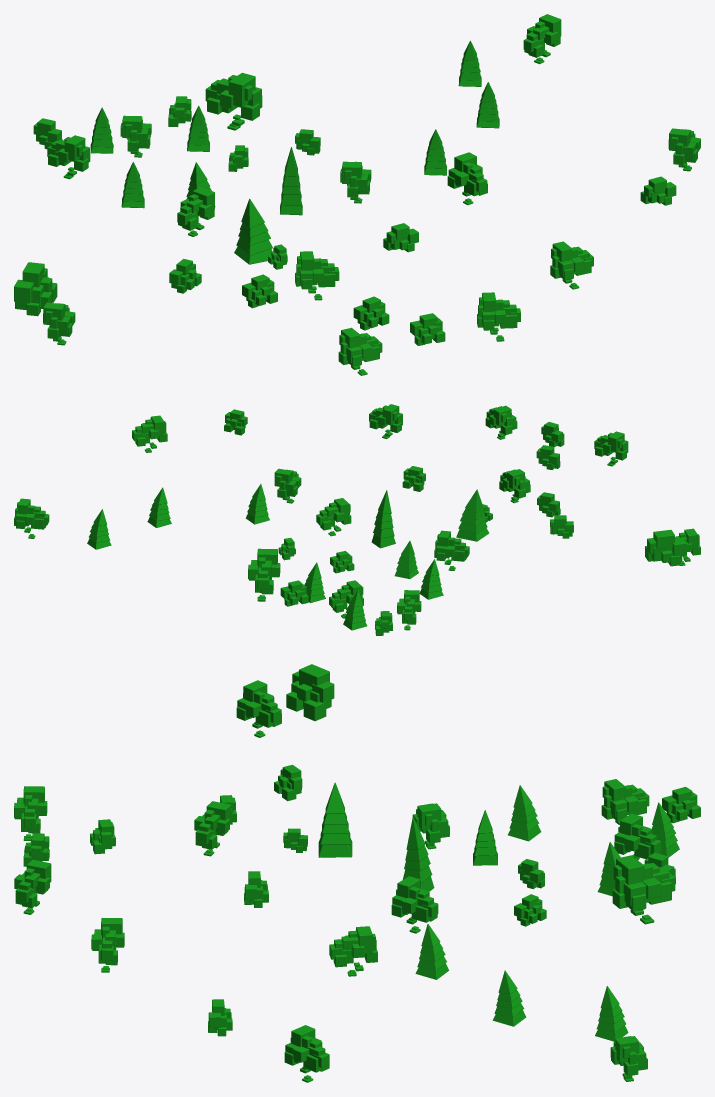
File: leaves.obj
3 renders of one model, top to bottom at view 1: azimuth 30°, elevation 25°; view 2: azimuth 150°, elevation 25°; view 3: azimuth 270°, elevation 25°, orthographic. The views are drawn at different scales.
Parts seen in each view (by area): view 1: Cube.012_Cube.021_None.004, Cube.010_Cube.010_None.013, Cube.006_Cube.042_None, Cube.012_Cube.021_None.007, Cube.012_Cube.021_None.008, Cube.012_Cube.021_None.010, Cube.012_Cube.021_None.009, Cube.012_Cube.021_None, Cube.012_Cube.021_None.003, Cube.012_Cube.021_None.005, Cube.012_Cube.021_None.006, Cube.006_Cube.042_None.002 (+18 smaller); view 2: Cube.012_Cube.021_None.004, Cube.010_Cube.010_None.013, Cube.006_Cube.042_None, Cube.012_Cube.021_None.006, Cube.012_Cube.021_None.005, Cube.006_Cube.042_None.002, Cube.012_Cube.021_None.001, Cube.012_Cube.021_None.012, Cube.012_Cube.021_None.009, Cube.012_Cube.021_None.010, Cube.012_Cube.021_None.008, Cube.012_Cube.021_None.007 (+19 smaller); view 3: Cube.012_Cube.021_None.004, Cube.010_Cube.010_None.013, Cube.006_Cube.042_None, Cube.012_Cube.021_None.001, Cube.012_Cube.021_None.012, Cube.012_Cube.021_None.011, Cube.012_Cube.021_None, Cube.012_Cube.021_None.003, Cube.012_Cube.021_None.002, Cube.012_Cube.021_None.008, Cube.012_Cube.021_None.007, Cube.012_Cube.021_None.010 (+18 smaller).
Part boxes in pixels (<box>): Cube.012_Cube.021_None.004: <box>205,72,262,130</box>; Cube.010_Cube.010_None.013: <box>14,262,57,316</box>; Cube.006_Cube.042_None: <box>234,198,272,264</box>; Cube.012_Cube.021_None.007: <box>295,251,339,300</box>; Cube.012_Cube.021_None.008: <box>477,292,520,341</box>; Cube.012_Cube.021_None.010: <box>550,241,593,289</box>; Cube.012_Cube.021_None.009: <box>338,327,382,375</box>; Cube.012_Cube.021_None: <box>447,152,487,205</box>; Cube.012_Cube.021_None.003: <box>47,135,90,179</box>; Cube.012_Cube.021_None.005: <box>523,14,561,64</box>; Cube.012_Cube.021_None.006: <box>177,187,214,236</box>; Cube.006_Cube.042_None.002: <box>280,147,302,215</box>; Cube.012_Cube.021_None.004: <box>248,548,280,601</box>; Cube.010_Cube.010_None.013: <box>645,529,686,566</box>; Cube.006_Cube.042_None: <box>456,489,489,541</box>; Cube.012_Cube.021_None.006: <box>434,530,469,570</box>; Cube.012_Cube.021_None.005: <box>14,498,49,538</box>; Cube.006_Cube.042_None.002: <box>371,490,395,548</box>; Cube.012_Cube.021_None.001: <box>316,498,351,536</box>; Cube.012_Cube.021_None.012: <box>132,415,167,452</box>; Cube.012_Cube.021_None.009: <box>594,431,628,466</box>; Cube.012_Cube.021_None.010: <box>369,404,402,438</box>; Cube.012_Cube.021_None.008: <box>485,405,517,439</box>; Cube.012_Cube.021_None.007: <box>499,469,530,503</box>; Cube.012_Cube.021_None.004: <box>612,855,675,924</box>; Cube.010_Cube.010_None.013: <box>286,664,334,721</box>; Cube.006_Cube.042_None: <box>318,782,352,857</box>; Cube.012_Cube.021_None.001: <box>391,876,438,933</box>; Cube.012_Cube.021_None.012: <box>284,1025,329,1082</box>; Cube.012_Cube.021_None.011: <box>236,680,281,737</box>; Cube.012_Cube.021_None: <box>329,926,377,976</box>; Cube.012_Cube.021_None.003: <box>601,779,649,824</box>; Cube.012_Cube.021_None.002: <box>614,813,660,859</box>; Cube.012_Cube.021_None.008: <box>14,859,51,914</box>; Cube.012_Cube.021_None.007: <box>194,801,231,856</box>; Cube.012_Cube.021_None.010: <box>91,917,124,972</box>.
Bounding box in the file's own units: 814 × 80.88 × 639.
